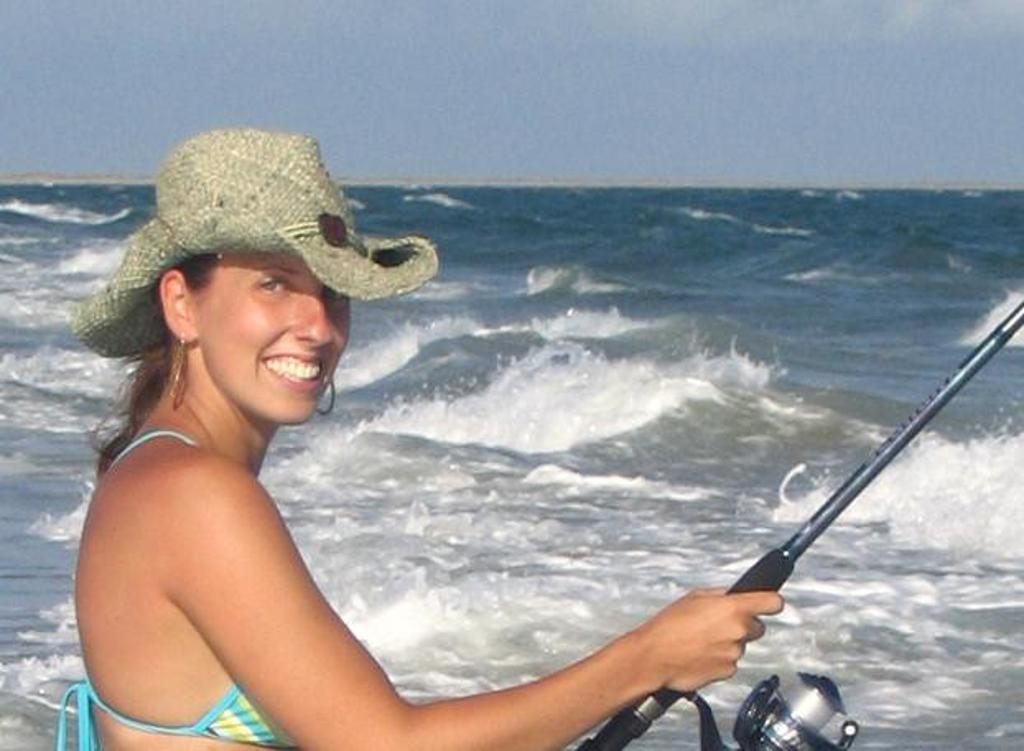face: (207, 247, 355, 425)
